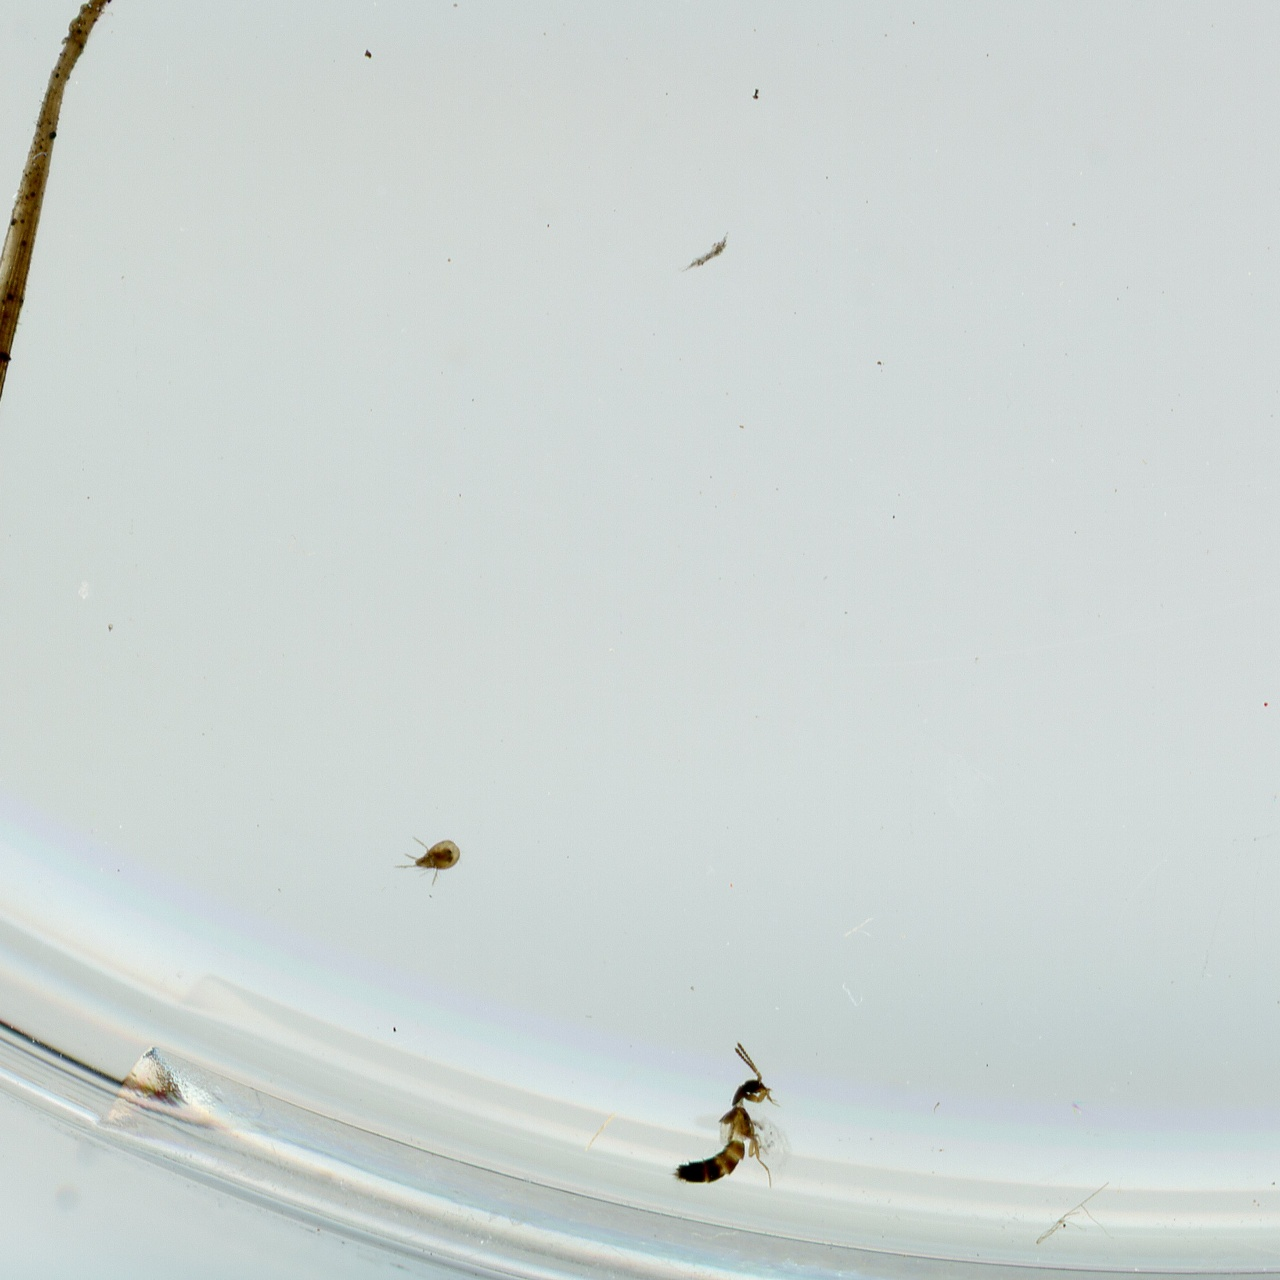arthropod: (667, 1033, 781, 1197), (393, 836, 462, 887)
